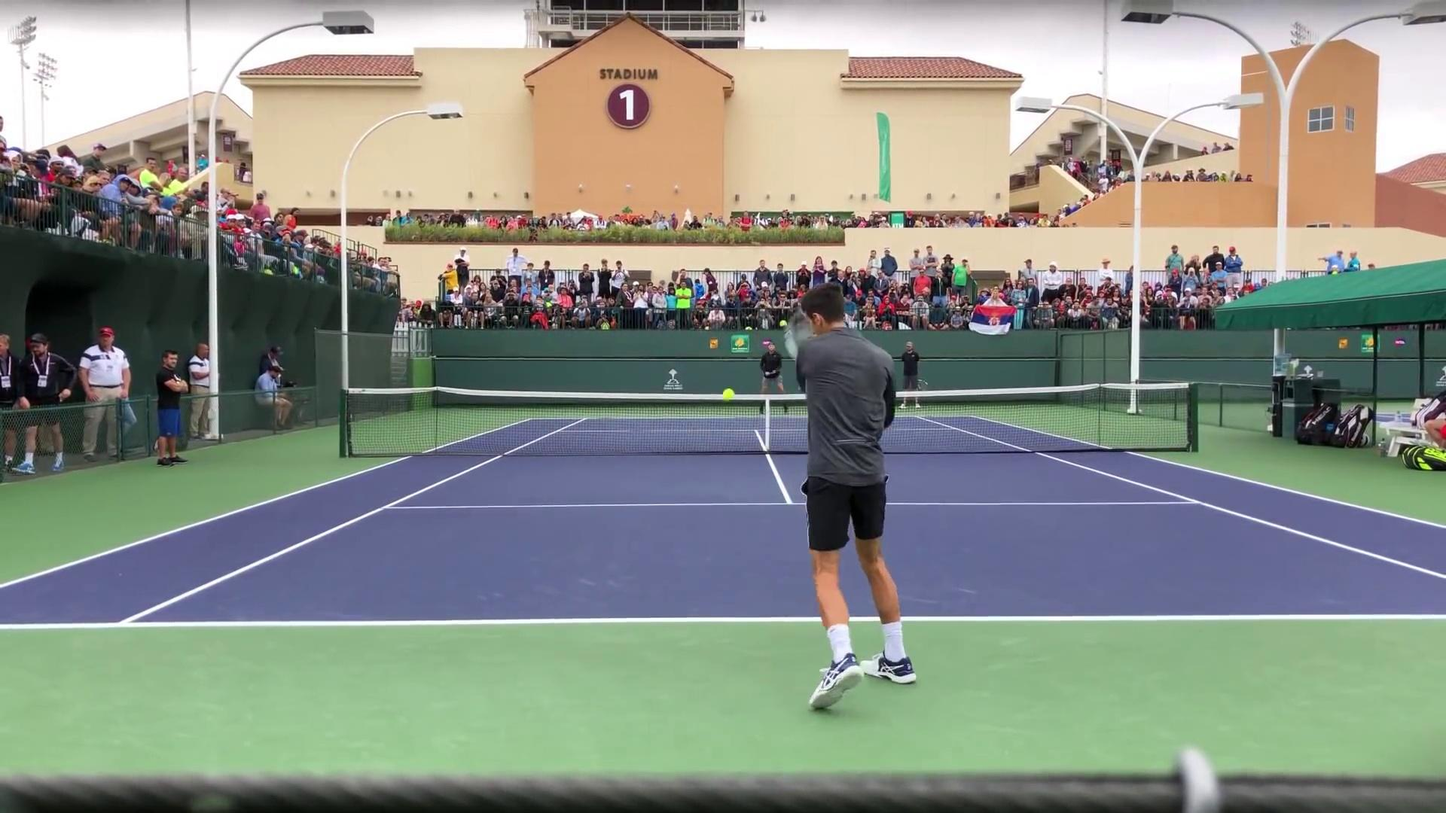ball: (720, 388, 736, 402)
